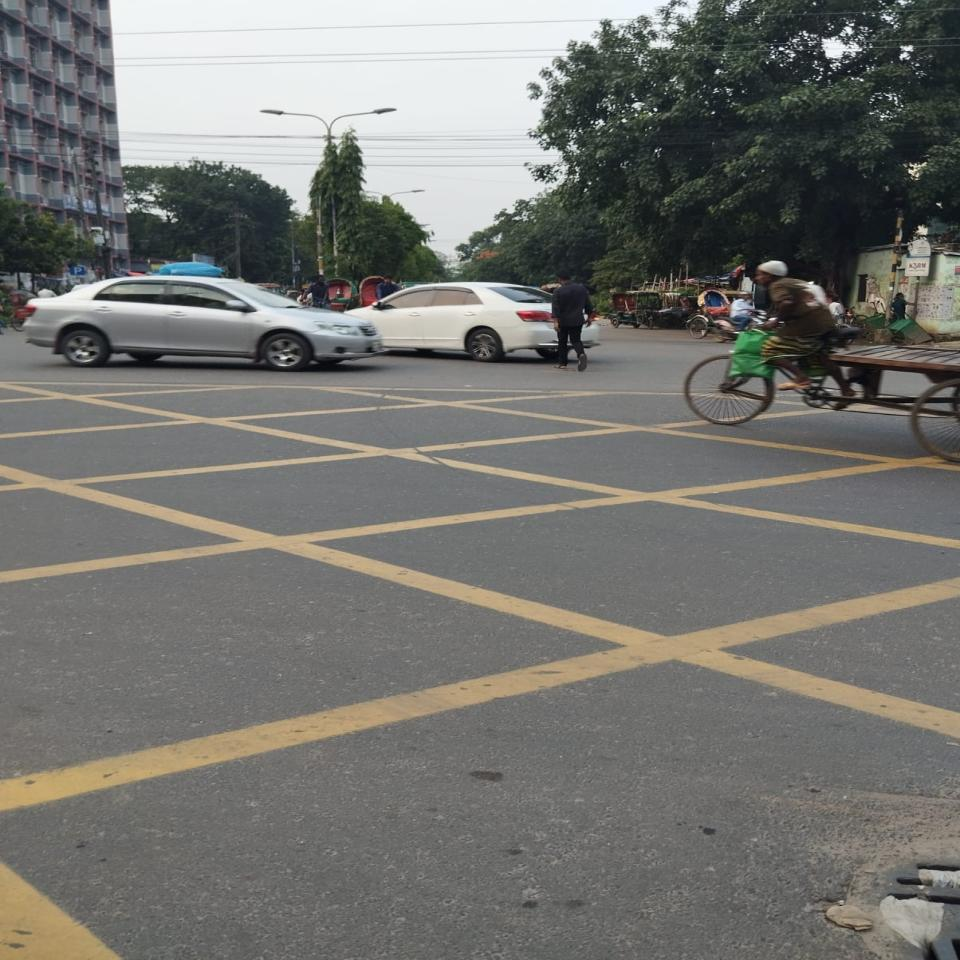person: (551, 271, 593, 372)
